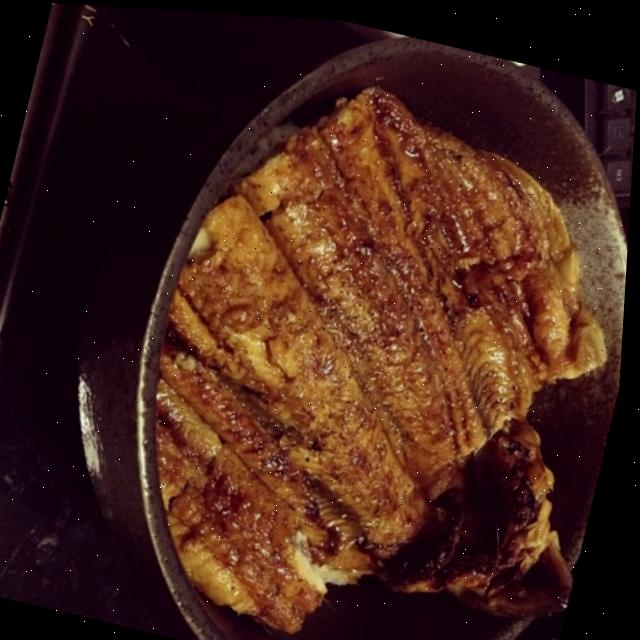熟制海鲜: (34, 3, 640, 640)
